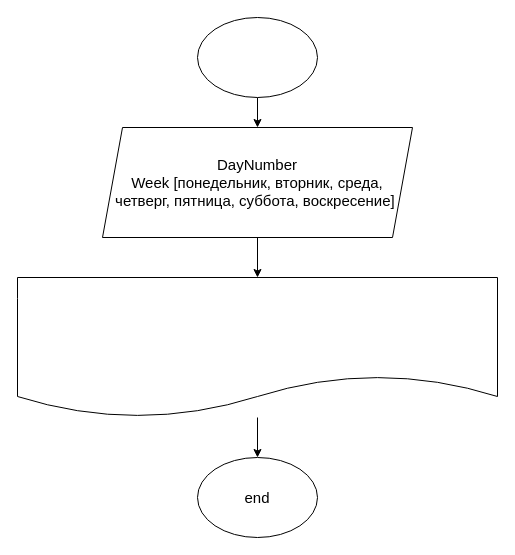
Some shapes in this 515 by 555 pixel diagram are drawn without their labels. Here are the shapes that lost their labels. From the top down, the centre of each, then its label:
At point (257, 57): "start".
At point (257, 347): "Week [DayNumber + 1]".
